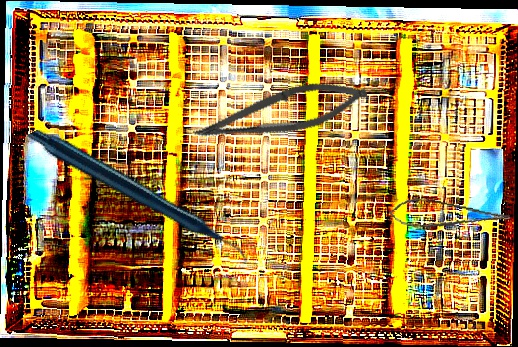Handpiece: (26, 73, 250, 324)
Micro Scissor: (189, 67, 372, 162), (388, 192, 511, 243)
